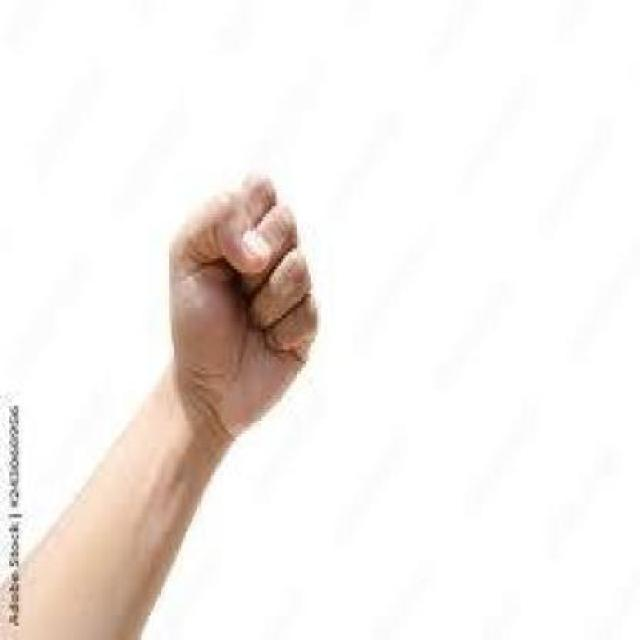Rock: (146, 144, 333, 466)
